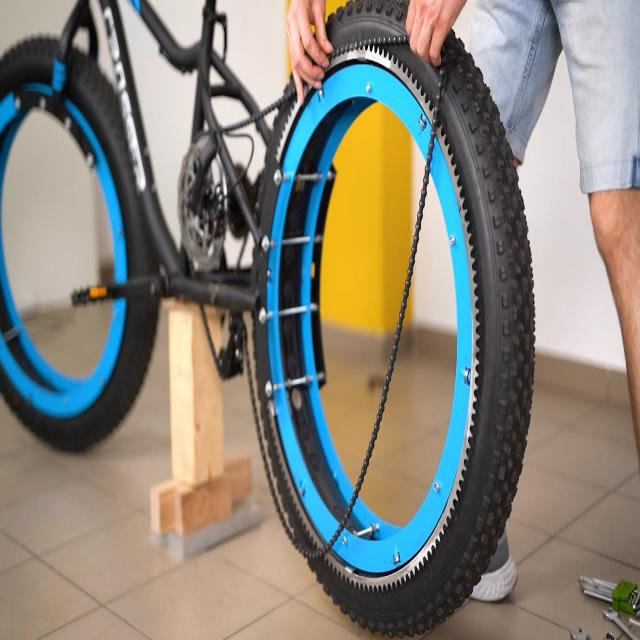bicycle: (0, 5, 519, 624)
